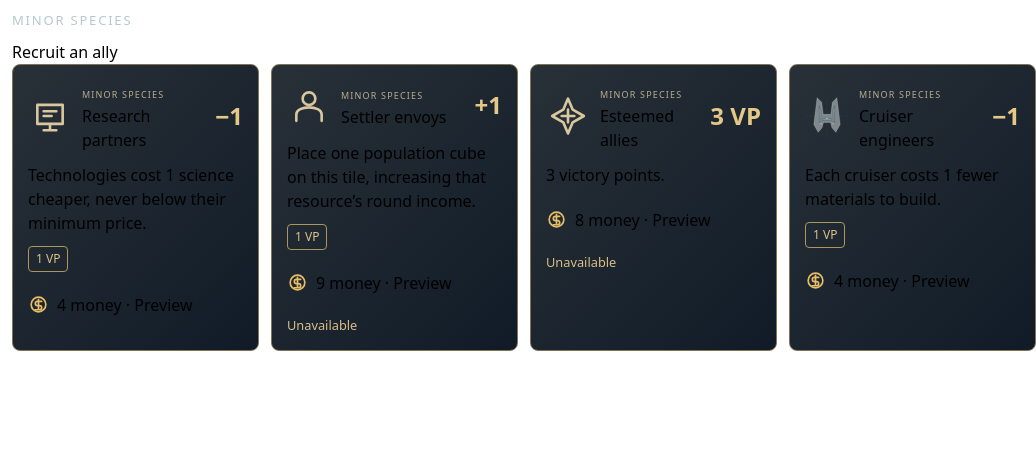
warns about a money shortfall at upkeep before recruiting an ally
The image size is (1036, 462).
Click the button with aria-label "Select". click: [136, 304]
box: [28,282,243,326]
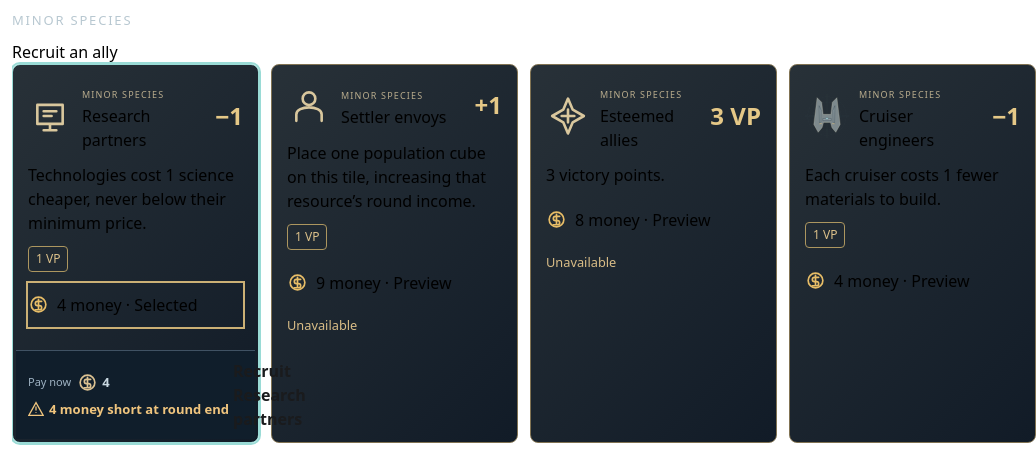
Result: the element named "4 money" reads "4" at [102,373,110,391]
Result: the message reads "4 money short at round end" at [28,400,229,417]
